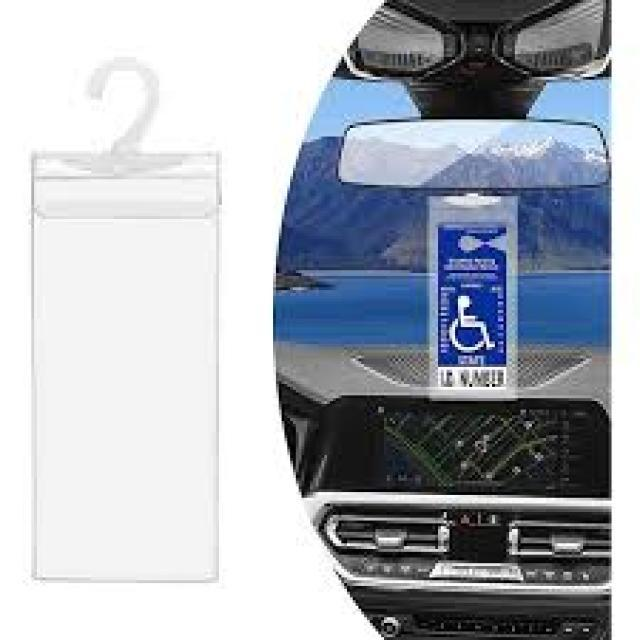symbol_of_access: (449, 292, 495, 352)
